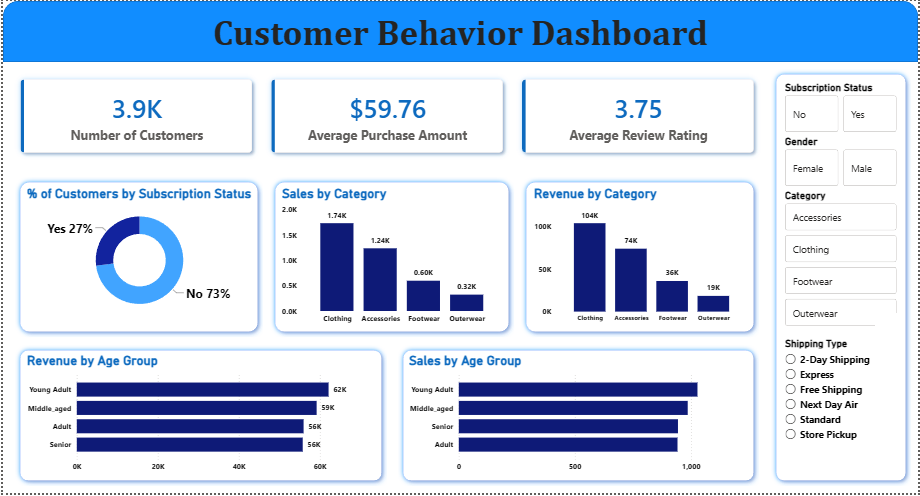

The dashboard page shown, as its layout file describes it:
{"tool":"powerbi","page":{"name":"Page 1","canvas":[1525,820],"ordinal":0},"visuals":[{"type":"cardVisual","fields":{"Data":["customer_behavior customer.Number of Customers","customer_behavior customer.Average Purchase Amount","customer_behavior customer.Average Review Rating"]},"box":[0,101.7,1280,180],"z":0},{"type":"shape","box":[0,0,1525,101.7],"z":1000},{"type":"shape","box":[20,293.3,413.3,266.7],"z":2000},{"type":"donutChart","title":"% of Customers by Subscription Status","fields":{"Category":["customer_behavior customer.subscription_status"],"Y":["CountNonNull(customer_behavior customer.customer_id)"]},"box":[35,308.3,385,223.3],"z":3000},{"type":"shape","box":[445,293.3,406.7,266.7],"z":4000},{"type":"shape","box":[863.3,293.3,396.7,266.7],"z":5000},{"type":"columnChart","title":"Sales by Category","fields":{"Category":["customer_behavior customer.category"],"Y":["CountNonNull(customer_behavior customer.item_purchased)"]},"box":[460,308.3,376.7,238.3],"z":6000},{"type":"columnChart","title":"Revenue by Category","fields":{"Category":["customer_behavior customer.category"],"Y":["Sum(customer_behavior customer.purchase_amount)"]},"box":[880,308.3,365,238.3],"z":7000},{"type":"shape","box":[20,573.3,620,235],"z":8000},{"type":"shape","box":[658.3,573.3,601.7,235],"z":9000},{"type":"barChart","title":"Revenue by Age Group","fields":{"Category":["customer_behavior customer.age_group"],"Y":["Sum(customer_behavior customer.purchase_amount)"]},"box":[35,586.7,576.7,206.7],"z":10000},{"type":"barChart","title":"Sales by Age Group","fields":{"Category":["customer_behavior customer.age_group"],"Y":["CountNonNull(customer_behavior customer.item_purchased)"]},"box":[671.7,586.7,573.3,206.7],"z":11000},{"type":"textbox","box":[0,11.7,1525,101.7],"z":12000},{"type":"shape","box":[1280,113.3,233.3,695],"z":13000},{"type":"advancedSlicerVisual","title":"Subscription Status","fields":{"Values":["customer_behavior customer.subscription_status"]},"box":[1298.3,133.3,196.7,90],"z":14000},{"type":"advancedSlicerVisual","title":"Gender","fields":{"Values":["customer_behavior customer.gender"]},"box":[1298.3,223.3,196.7,90],"z":15000},{"type":"advancedSlicerVisual","title":"Category","fields":{"Values":["customer_behavior customer.category"]},"box":[1298.3,313.3,196.7,235],"z":16000},{"type":"listSlicer","title":"Shipping Type","fields":{"Values":["customer_behavior customer.shipping_type"]},"box":[1298.3,560,196.7,233.3],"z":17000}]}

Visuals, with their boxes in screenshot pixels (x1, y1, x2, y2), scaled from the page's 1525x820 canvas onto the 920x496 screenshot:
cardVisual - customer_behavior customer.Number of Customers x customer_behavior customer.Average Purchase Amount: box=[0, 62, 772, 170]
shape: box=[0, 0, 919, 62]
shape: box=[12, 177, 261, 339]
"% of Customers by Subscription Status" donutChart: box=[21, 186, 253, 322]
shape: box=[268, 177, 514, 339]
shape: box=[521, 177, 760, 339]
"Sales by Category" columnChart: box=[278, 186, 505, 331]
"Revenue by Category" columnChart: box=[531, 186, 751, 331]
shape: box=[12, 347, 386, 489]
shape: box=[397, 347, 760, 489]
"Revenue by Age Group" barChart: box=[21, 355, 369, 480]
"Sales by Age Group" barChart: box=[405, 355, 751, 480]
textbox: box=[0, 7, 919, 69]
shape: box=[772, 69, 913, 489]
"Subscription Status" advancedSlicerVisual: box=[783, 81, 902, 135]
"Gender" advancedSlicerVisual: box=[783, 135, 902, 190]
"Category" advancedSlicerVisual: box=[783, 190, 902, 332]
"Shipping Type" listSlicer: box=[783, 339, 902, 480]
